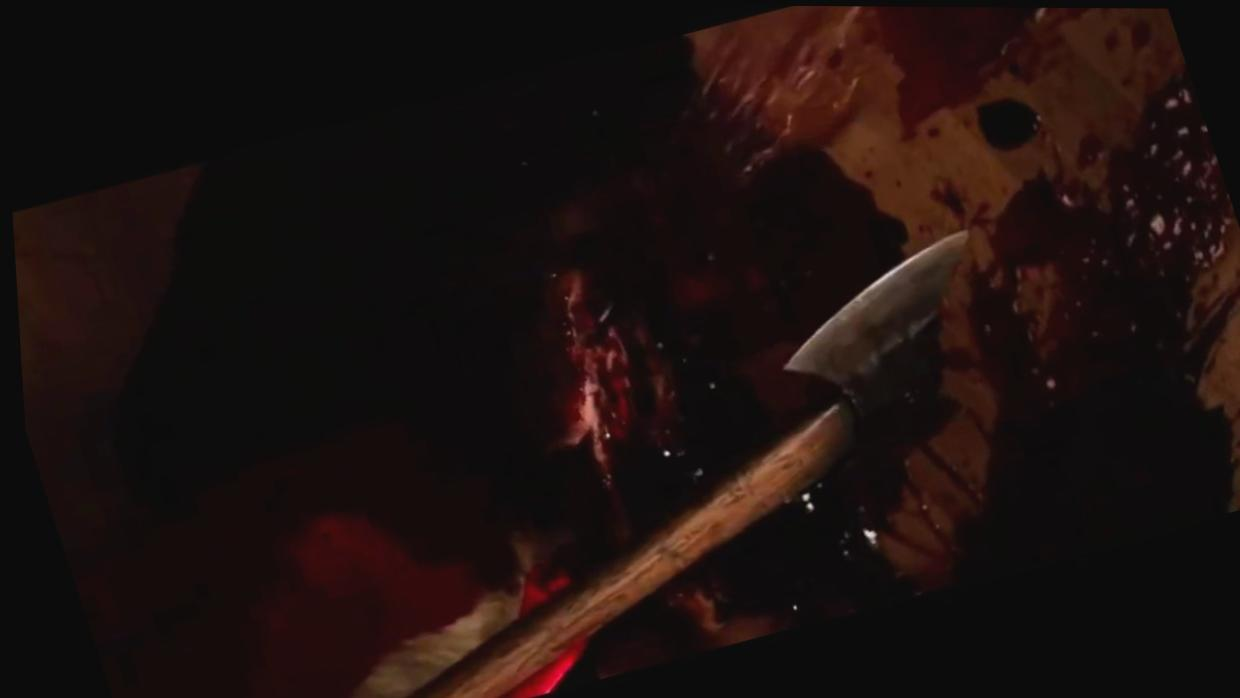Fire: (559, 5, 1240, 630)
